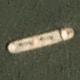ship: (0, 0, 36, 21)
